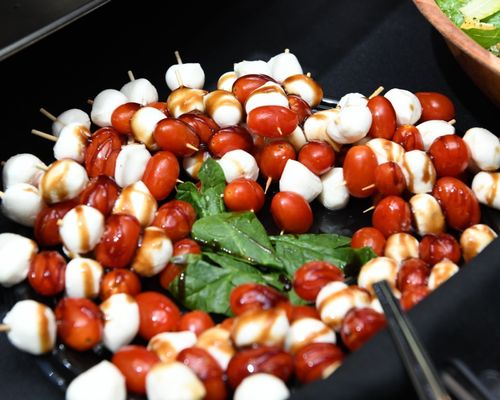sushi: (409, 0, 500, 113)
